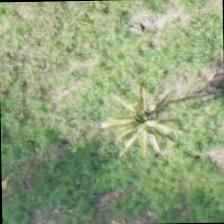Kelapa_Sawit: (105, 68, 197, 160)
